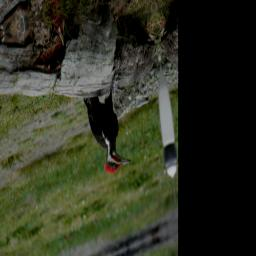Woodpecker: (82, 76, 132, 188)
